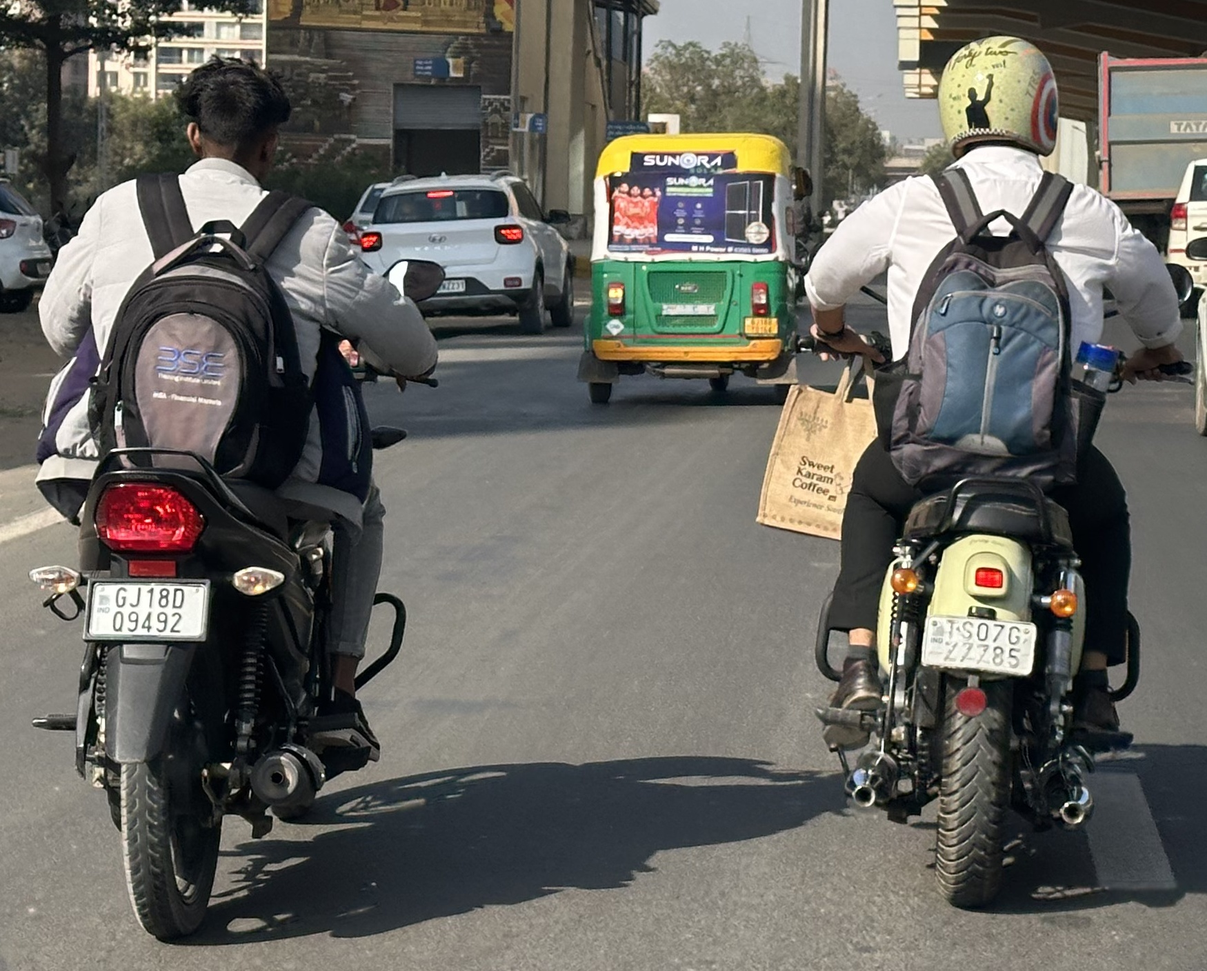BikeWithRider: (21, 57, 446, 943), (763, 32, 1185, 908)
Helmet: (935, 33, 1062, 161)
NoHelmet: (167, 58, 295, 178)
